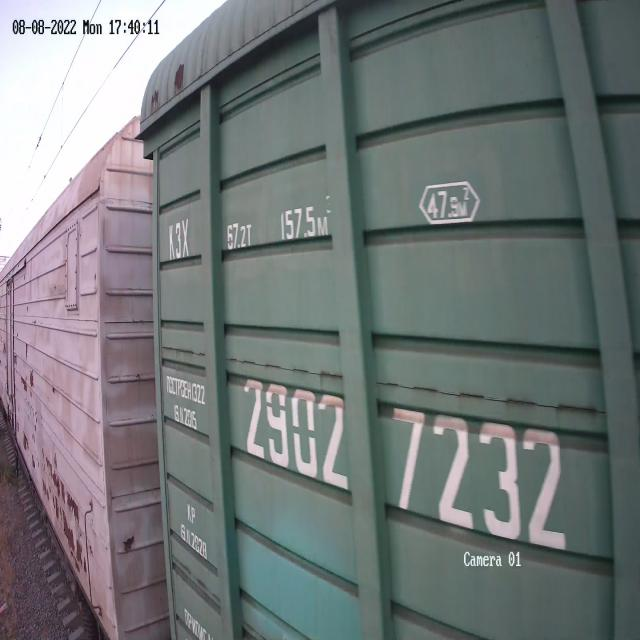boxcar: (131, 0, 640, 640), (0, 103, 159, 639)
